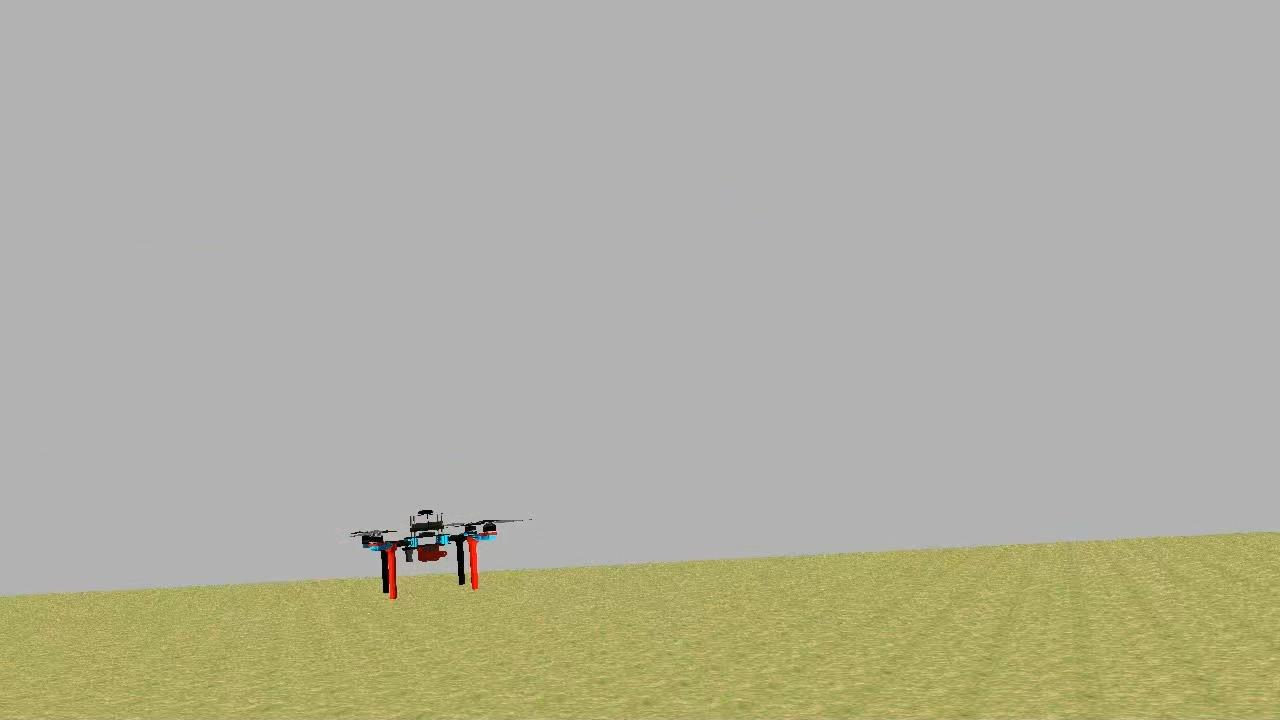UAV: (354, 497, 500, 606)
